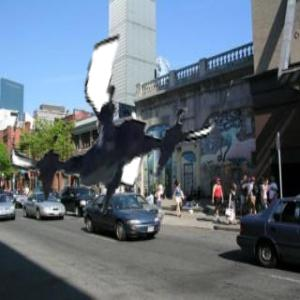drone: (9, 12, 228, 231)
